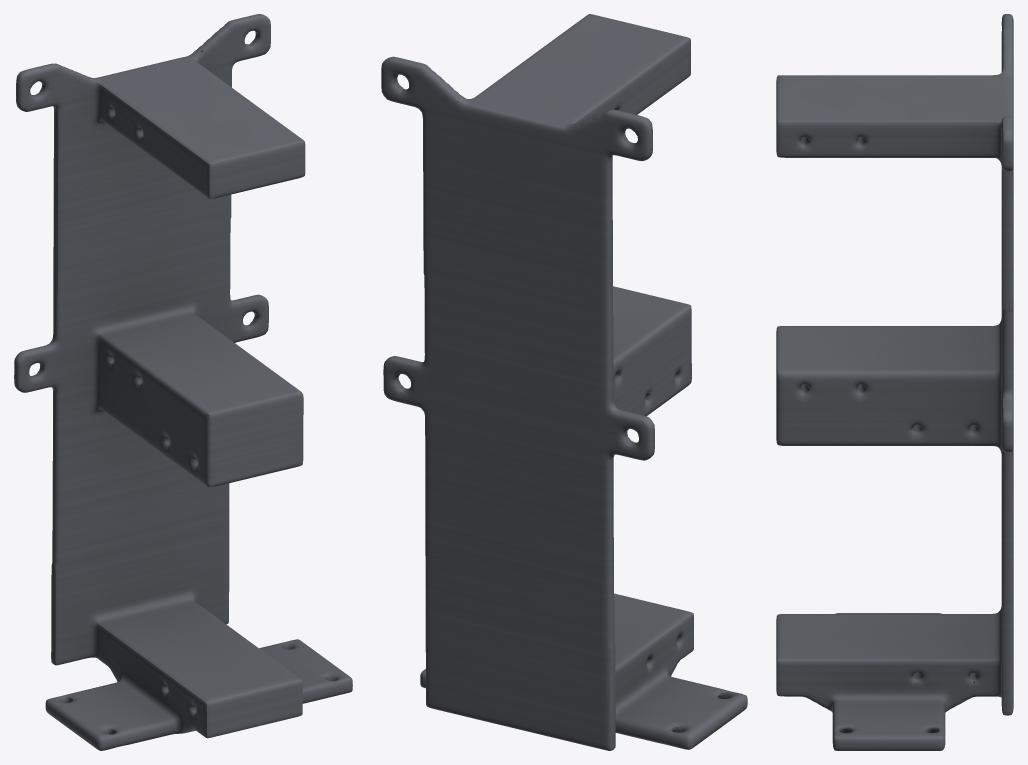
Rendered from right_forarm_internal_support.glb.
3 views of the same model, side by side, from view 1: azimuth 30°, elevation 25°; view 2: azimuth 150°, elevation 25°; view 3: azimuth 270°, elevation 25° (orthographic). The views are drawn at different scales.
Visible parts, largest first — view 1: right_forarm_internal_support; view 2: right_forarm_internal_support; view 3: right_forarm_internal_support.
Boxes of the visible parts, bbox=[...] form: right_forarm_internal_support: bbox=[14, 14, 352, 750]; right_forarm_internal_support: bbox=[381, 14, 747, 750]; right_forarm_internal_support: bbox=[776, 14, 1013, 750].
Bounding box in the file's own units: 0.0443 × 0.1015 × 0.0352.
Materials: 1 (1 with a texture image).
